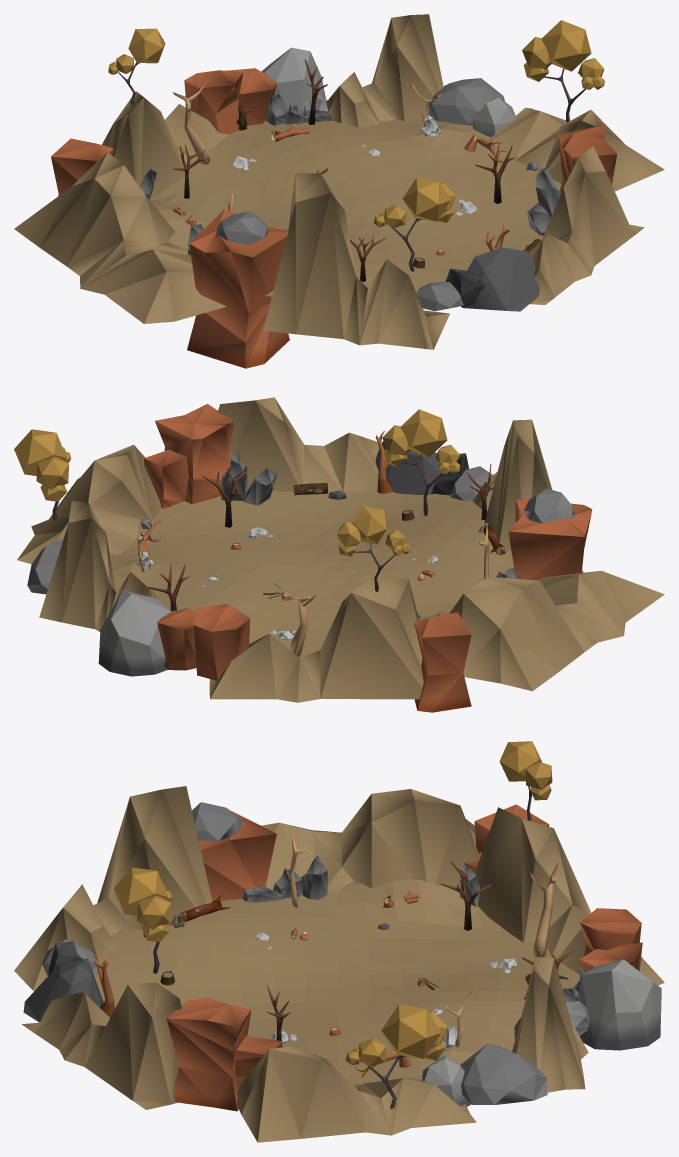
The model's file is Environment_Scene_1.fbx.
3 views of the same model, one above another, from view 1: azimuth 30°, elevation 25°; view 2: azimuth 150°, elevation 25°; view 3: azimuth 270°, elevation 25° (orthographic). The views are drawn at different scales.
Visible parts, largest first — view 1: Environment_Scene_1; view 2: Environment_Scene_1; view 3: Environment_Scene_1.
Part boxes in pixels (box(x1,y1,x2,y2)): Environment_Scene_1: box(14, 14, 664, 368); Environment_Scene_1: box(14, 397, 664, 712); Environment_Scene_1: box(14, 741, 664, 1142).
Bounding box in the file's own units: 3414 × 1202 × 3009.
